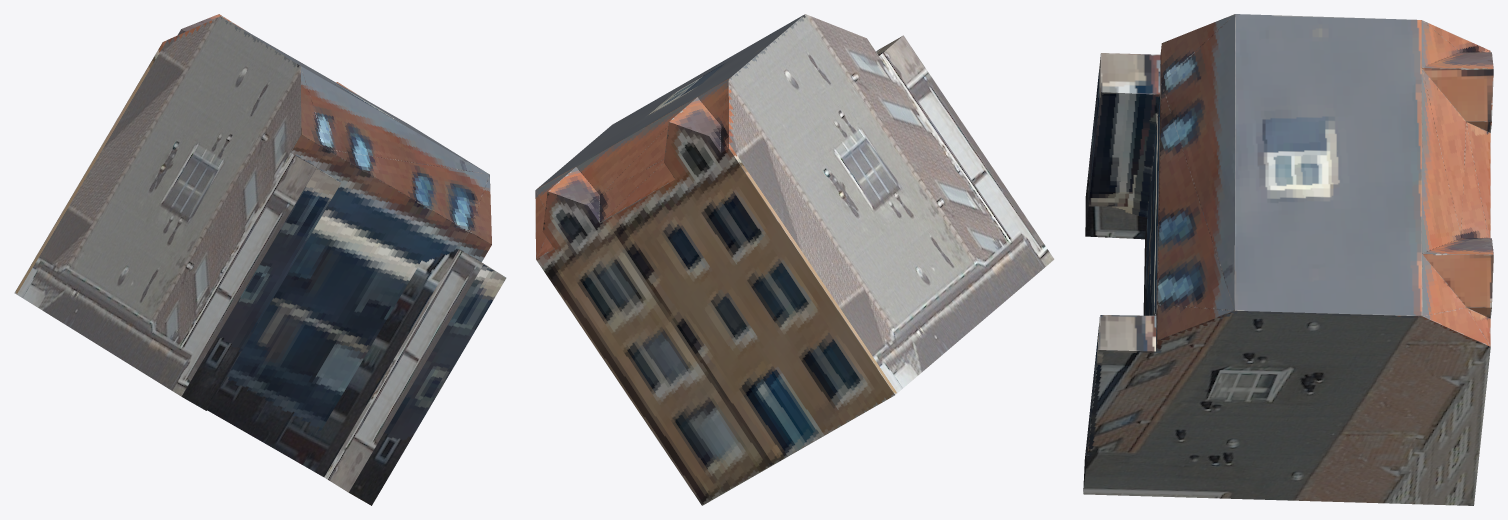
3 renders of one model, left to right at view 1: azimuth 30°, elevation 25°; view 2: azimuth 150°, elevation 25°; view 3: azimuth 270°, elevation 25°, orthographic. The views are drawn at different scales.
Parts seen in each view (by area): view 1: BAG_0599100000670810 (×6); view 2: BAG_0599100000670810 (×5); view 3: BAG_0599100000670810 (×5).
Part boxes in pixels (bbox=[...]): BAG_0599100000670810 (×6): bbox=[14, 14, 506, 505]; BAG_0599100000670810 (×5): bbox=[535, 14, 1054, 505]; BAG_0599100000670810 (×5): bbox=[1083, 14, 1493, 505].
Size of the model in its own units: 16.55 by 17.17 by 13.01.
5 materials, 5 textured.
